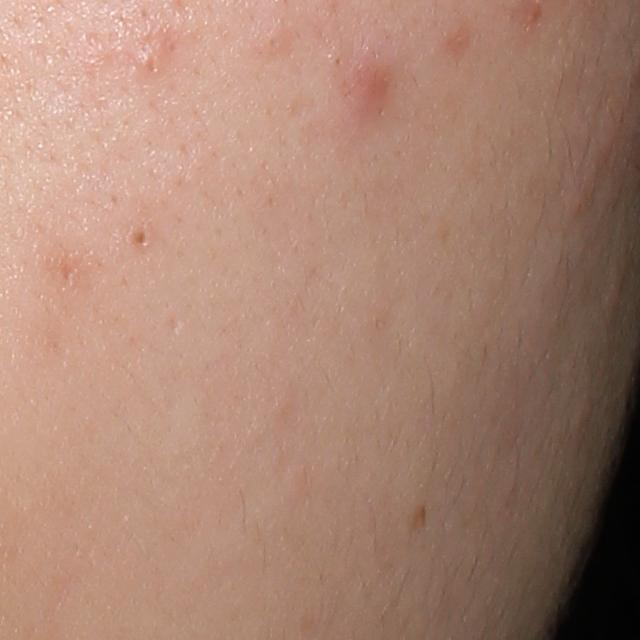comedo: (252, 26, 290, 56), (123, 222, 151, 251)
papule: (347, 57, 396, 122)
